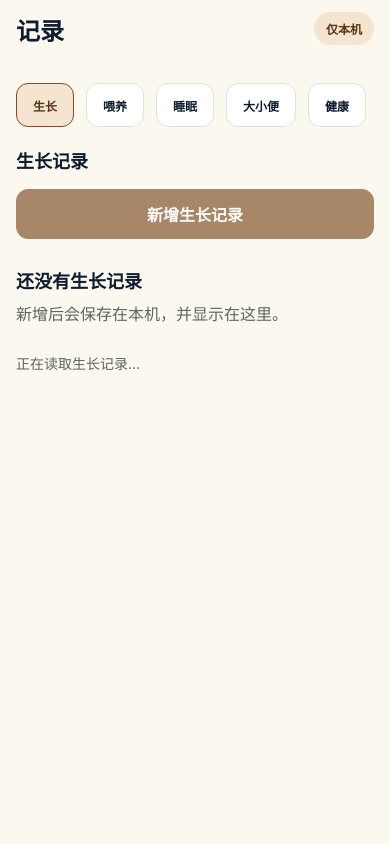
Test: creates and opens exact sleep editors
Expected: the heading "还没有生长记录" is shown, [16, 271, 142, 292]
Step 1. Click the tab "睡眠" → [185, 105], box [156, 83, 214, 127]
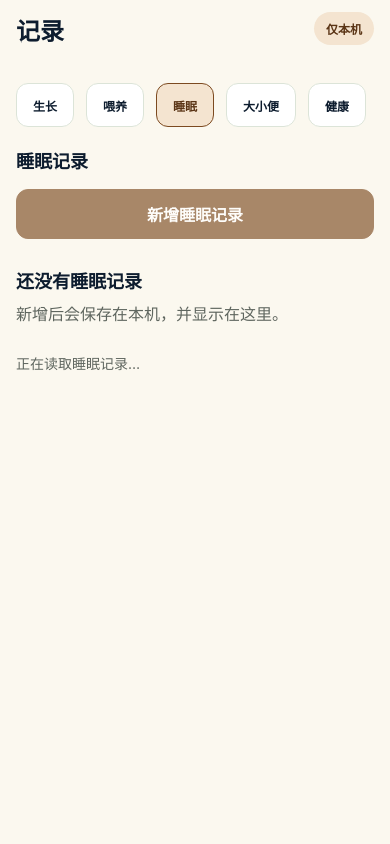
Step 2. Click the button → [195, 214], box [16, 189, 374, 239]
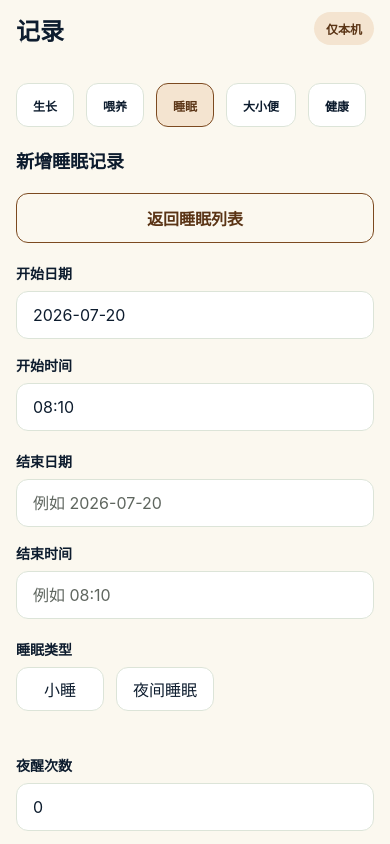
Expected: the field named "开始日期" is shown, [16, 291, 374, 339]
